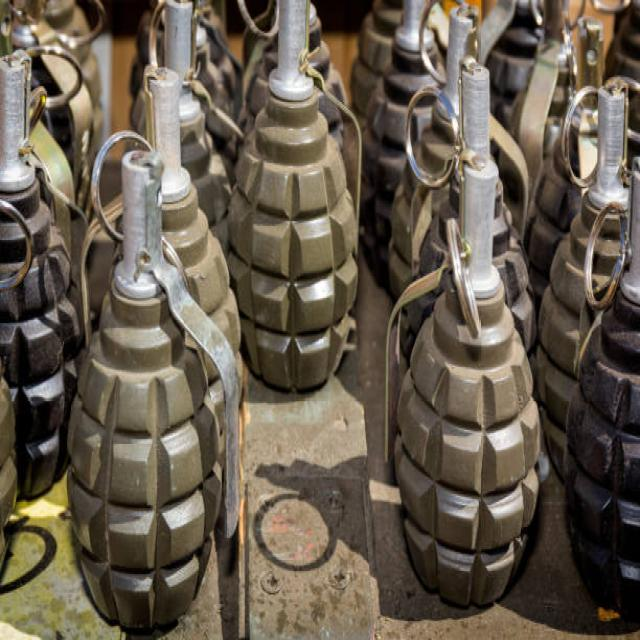grenade: (67, 130, 244, 636), (381, 147, 555, 612), (228, 1, 370, 398)
